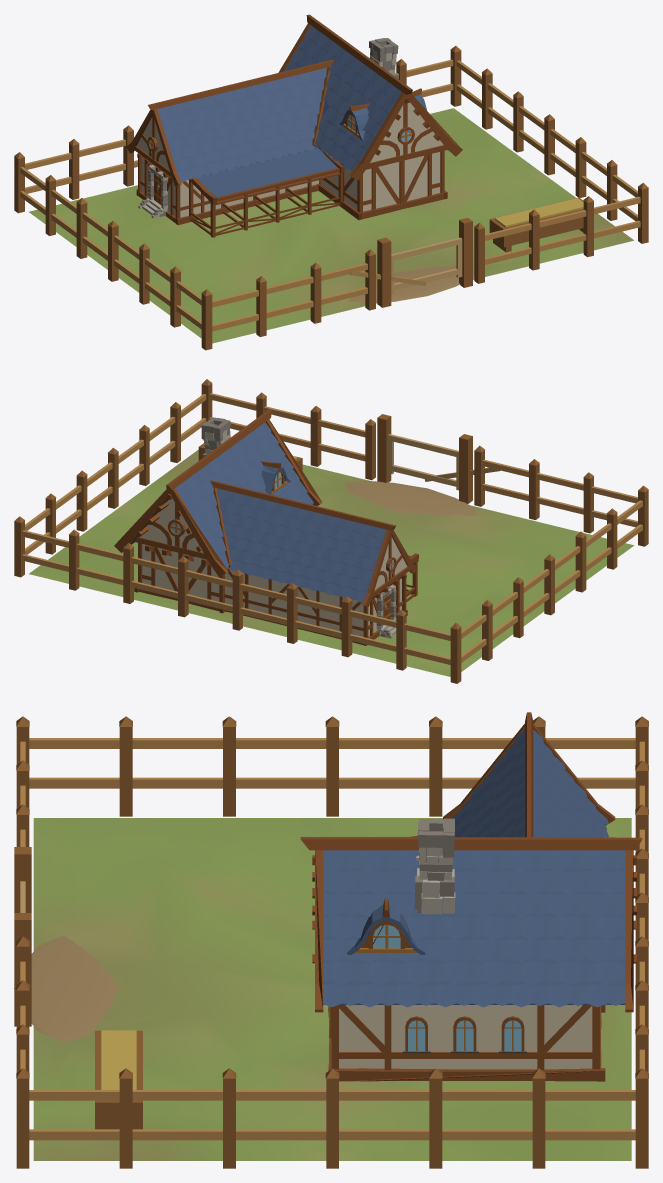
Rendered from stable.glb.
The picture shows the model from 3 angles, top to bottom: view 1: azimuth 30°, elevation 25°; view 2: azimuth 150°, elevation 25°; view 3: azimuth 270°, elevation 25°; orthographic projection. The views are drawn at different scales.
Parts seen in each view (by area): view 1: home-stable, home-stable-far; view 2: home-stable, home-stable-far; view 3: home-stable, home-stable-far.
Part boxes in pixels (left/top/right/bottom): home-stable: left=14, top=14, right=648, bottom=350; home-stable-far: left=137, top=24, right=583, bottom=299; home-stable: left=14, top=379, right=648, bottom=683; home-stable-far: left=68, top=416, right=613, bottom=636; home-stable: left=14, top=712, right=648, bottom=1168; home-stable-far: left=14, top=730, right=636, bottom=1162.
Size of the model in its own units: 7.93 by 2.4 by 5.95.
